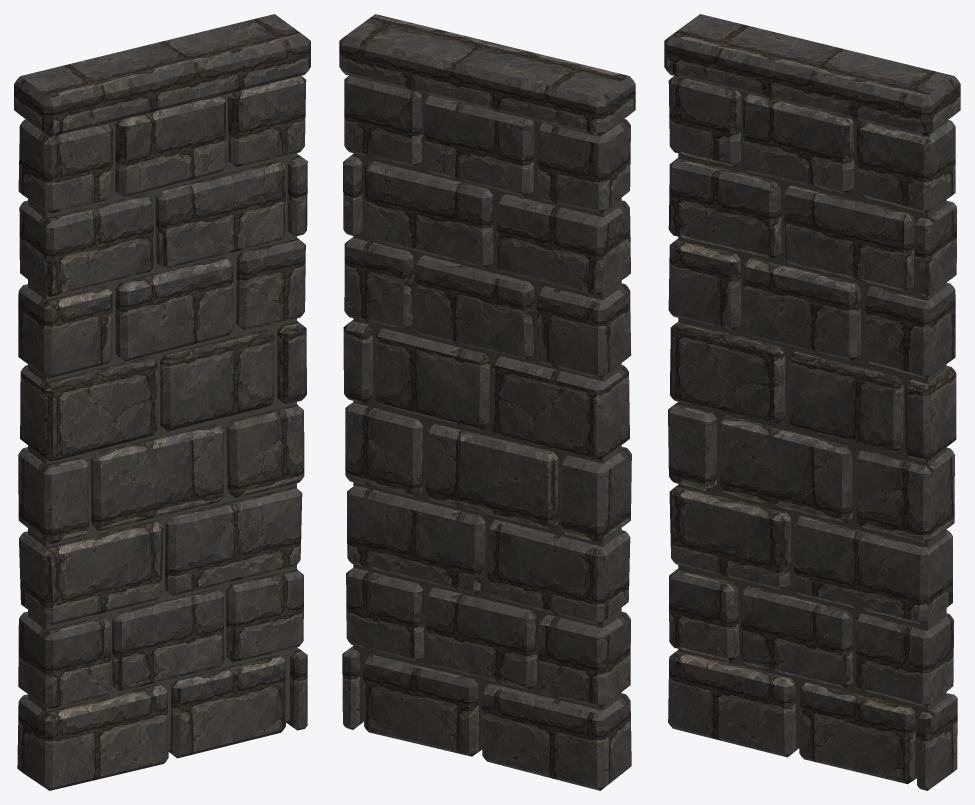
Rendered from wall_stone_b.glb.
3 renders of one model, left to right at view 1: azimuth 30°, elevation 25°; view 2: azimuth 150°, elevation 25°; view 3: azimuth 330°, elevation 25°, orthographic.
Parts seen in each view (by area): view 1: wall_stone_b; view 2: wall_stone_b; view 3: wall_stone_b.
Boxes of the visible parts, x1,y1,x2,y2 form: wall_stone_b: (14,14,310,790); wall_stone_b: (339,14,635,790); wall_stone_b: (664,14,960,790).
Size of the model in its own units: 1 by 2.49 by 0.24.
4 materials, 3 textured.
